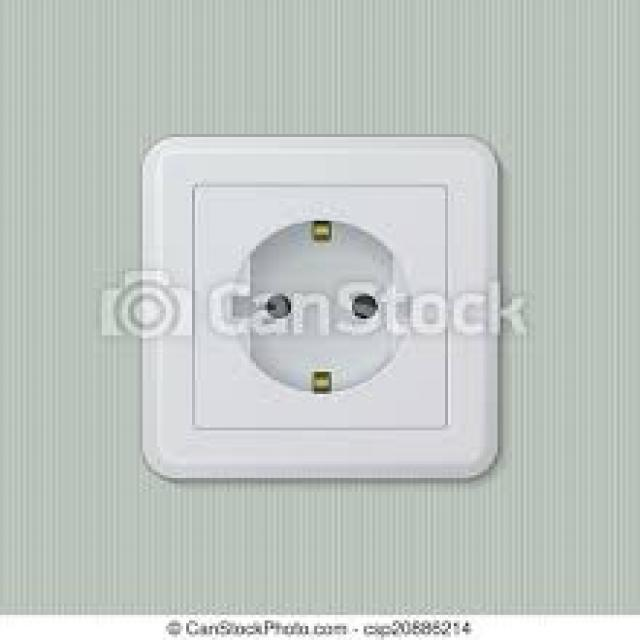typeb: (104, 98, 560, 511)
